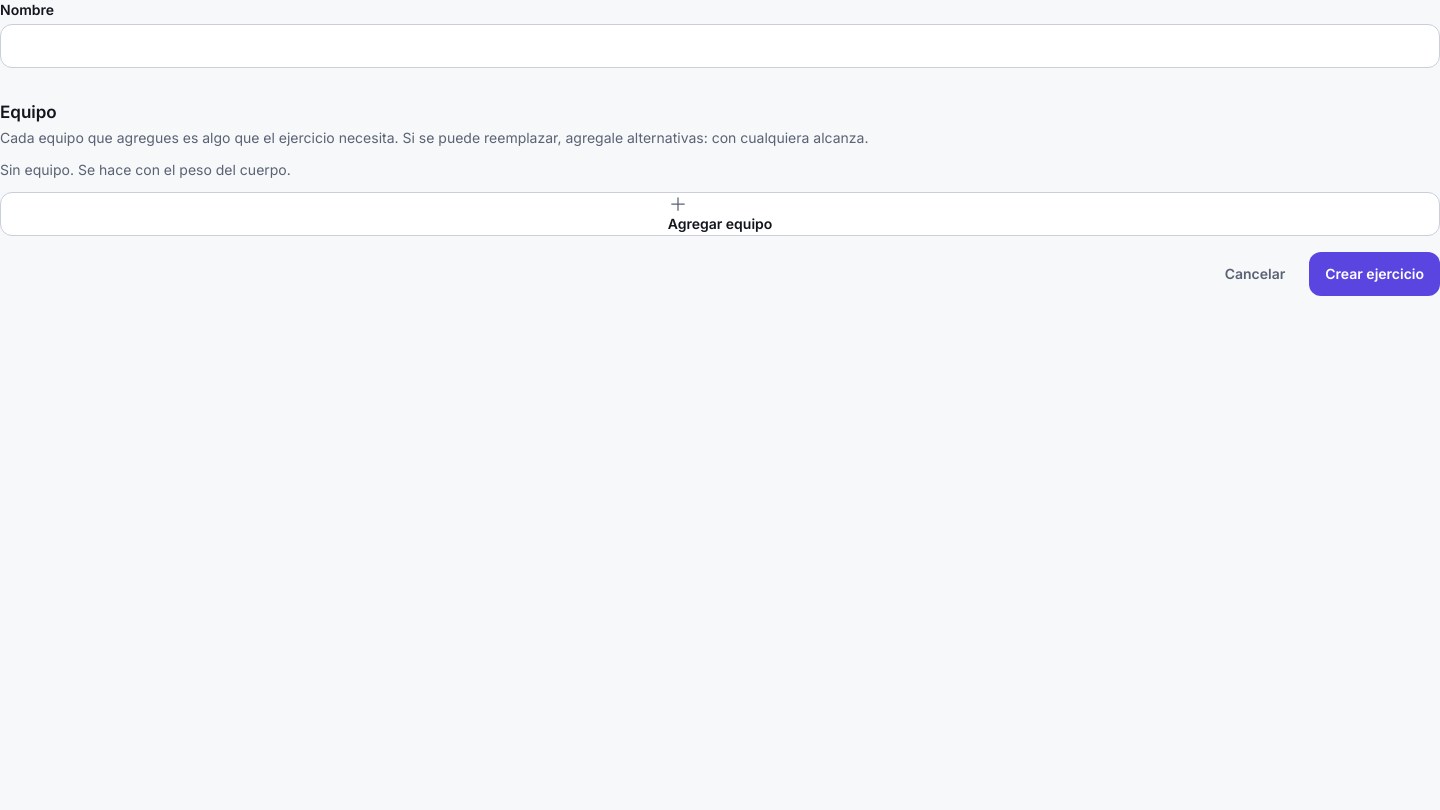
Test: ExerciseForm › cerrar el selector de 'Agregar equipo' sin elegir no crea ningún grupo
Click the button "Agregar equipo" at (720, 214), box [0,192,1439,236]
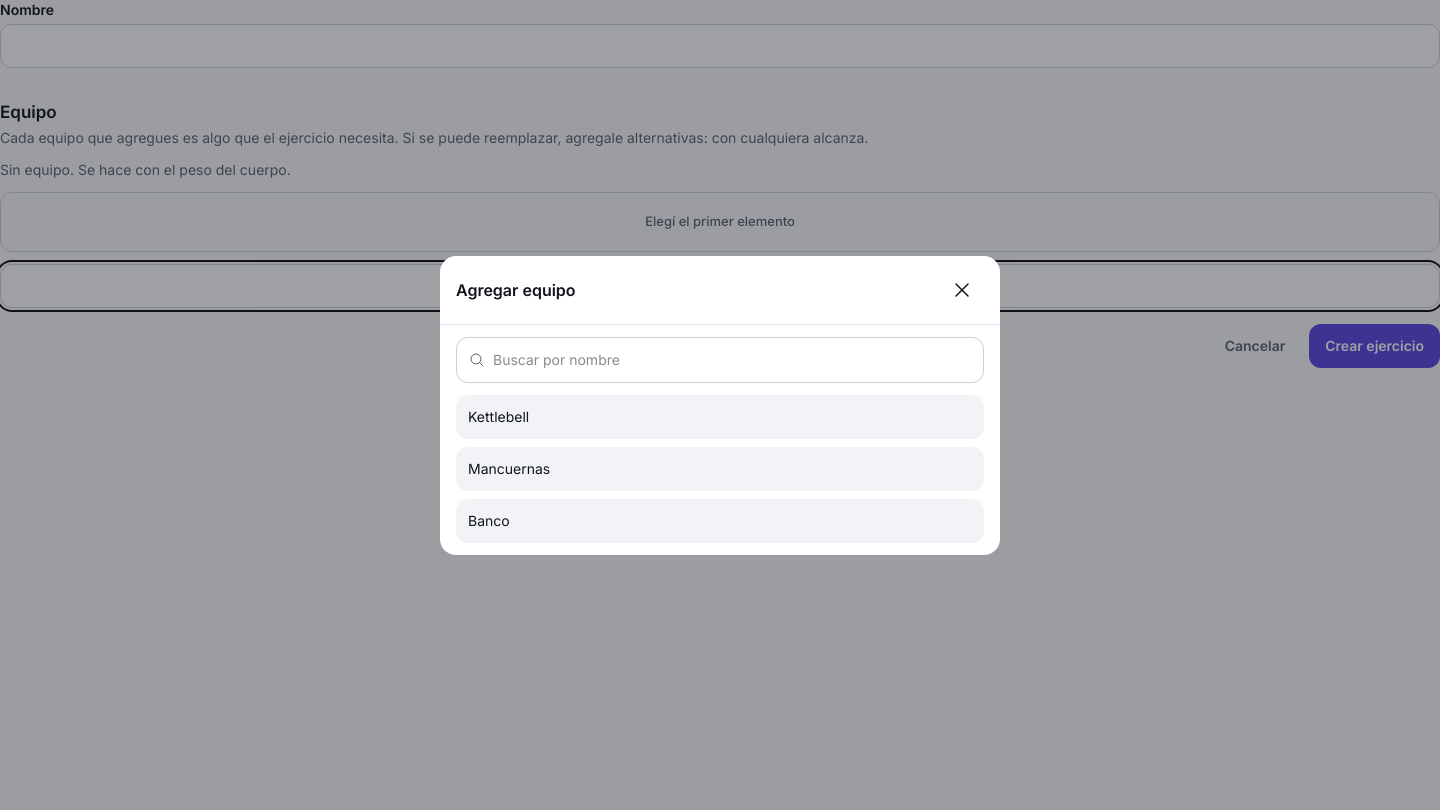
Click the button named "cerrar" at (962, 290), box [940,268,984,312]
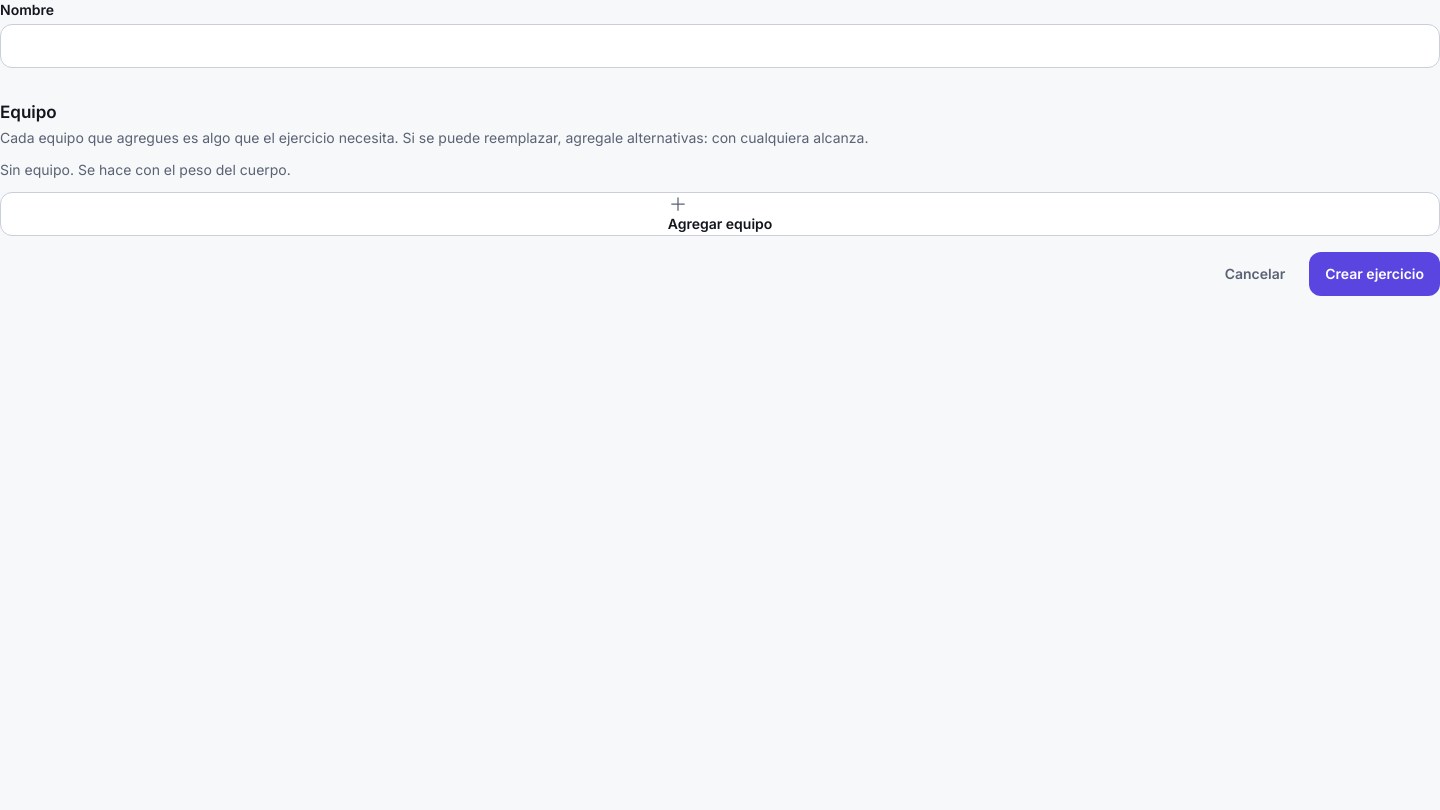
Expected: the text "Sin equipo. Se hace con el peso del cuerpo." is shown, [0,161,291,178]
Expected: the dialog is gone
